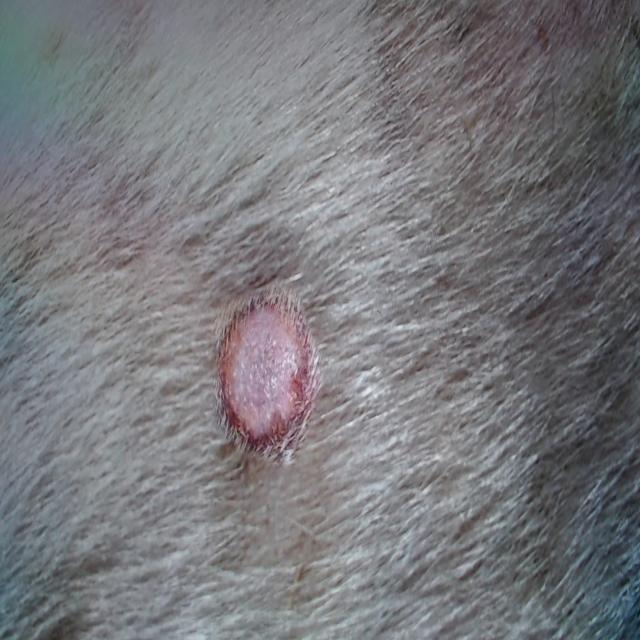ringworm: (207, 265, 321, 475)
